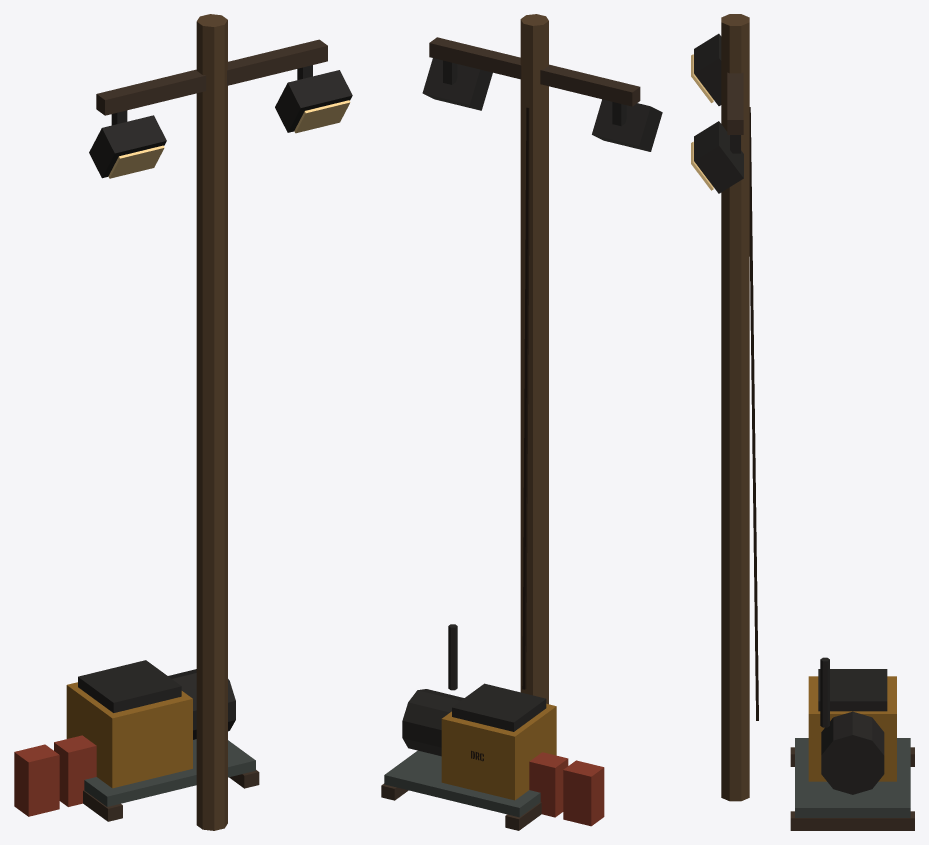
The model's file is FloodMast.glb.
3 renders of one model, left to right at view 1: azimuth 30°, elevation 25°; view 2: azimuth 150°, elevation 25°; view 3: azimuth 270°, elevation 25°, orthographic. The views are drawn at different scales.
Parts seen in each view (by area): view 1: FloodMast; view 2: FloodMast; view 3: FloodMast.
Boxes of the visible parts, left/top/right/bottom form: FloodMast: left=14, top=14, right=352, bottom=830; FloodMast: left=381, top=14, right=662, bottom=830; FloodMast: left=691, top=14, right=914, bottom=830.
Bounding box in the file's own units: 2.01 × 6.2 × 1.62.
